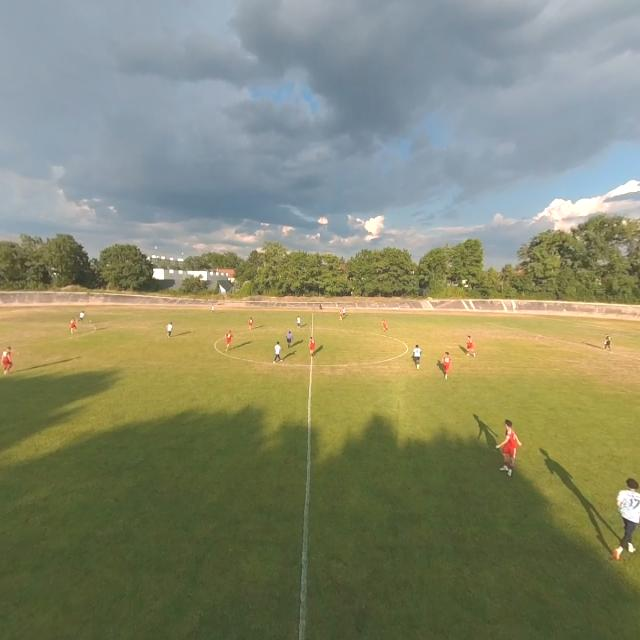ball: (89, 318, 92, 324)
